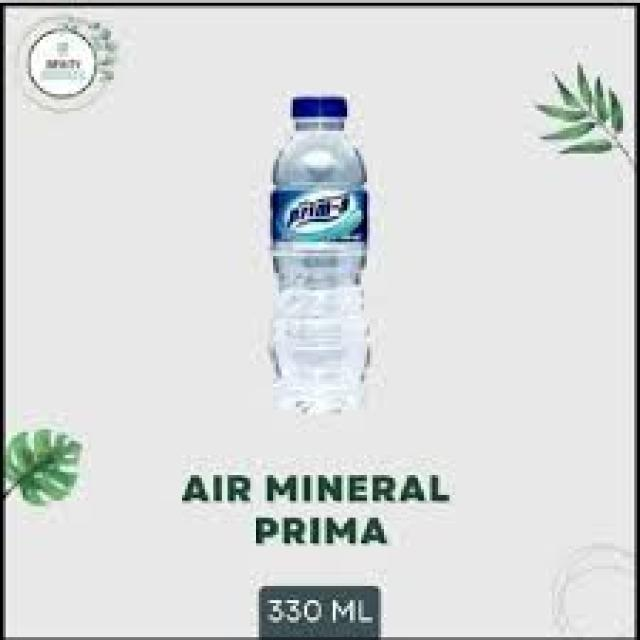good: (255, 86, 394, 413)
